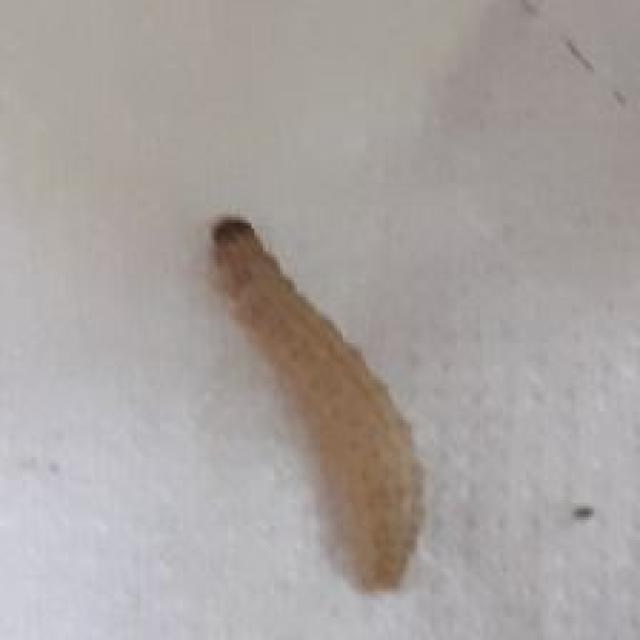white mucus: (157, 212, 446, 602)
